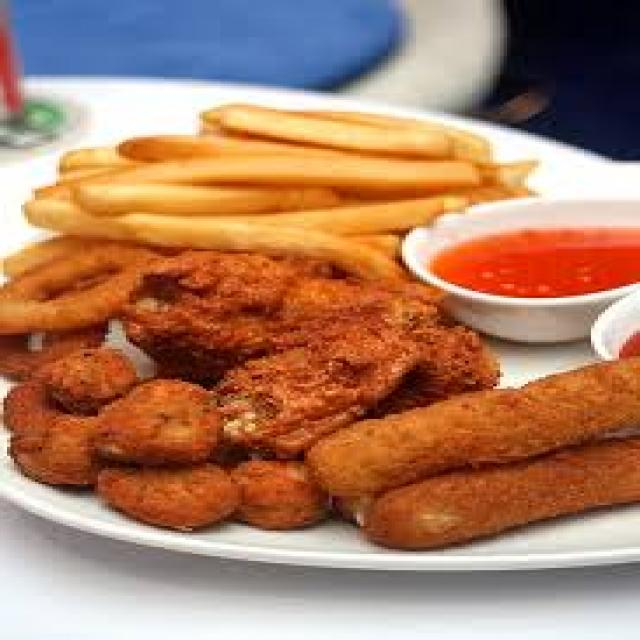Chicken Wings: (116, 230, 510, 454)
French Fries: (14, 96, 563, 260)
Onion Rings: (3, 235, 168, 358)
